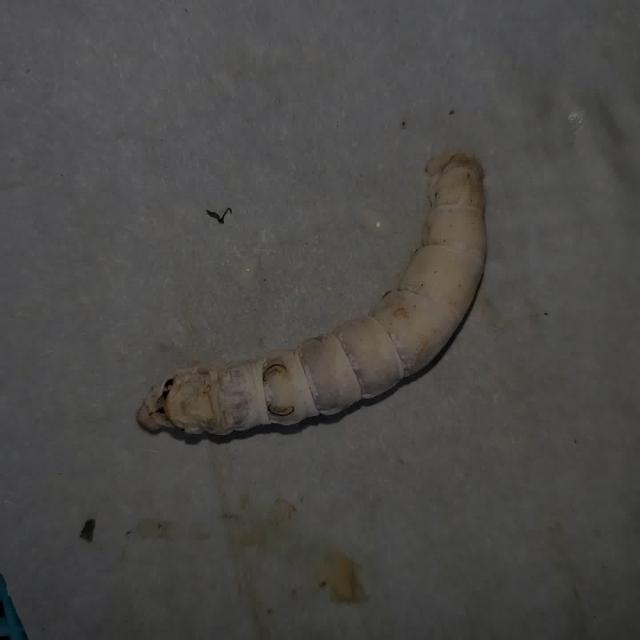Grasserie: (116, 122, 500, 465)
